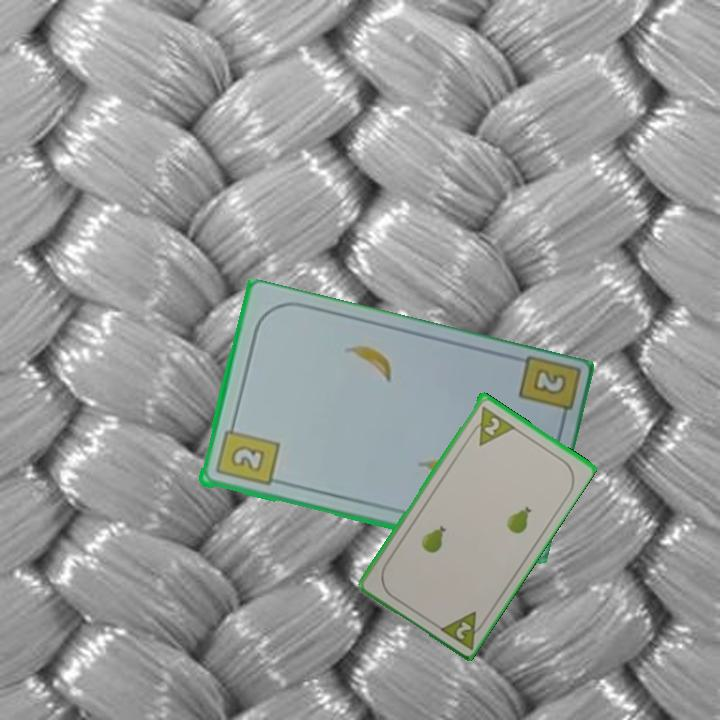2b: (514, 354, 579, 430), (212, 418, 281, 489)
2p: (434, 607, 490, 652), (464, 402, 517, 448)
